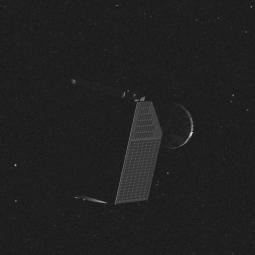cheops: (40, 89, 200, 207)
